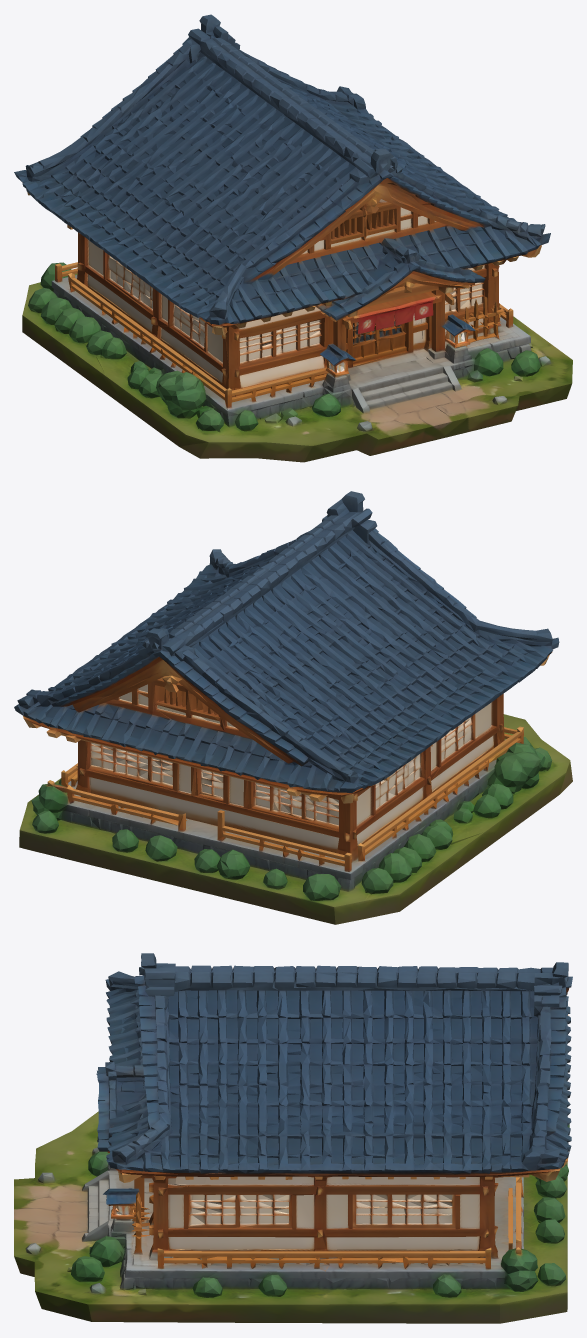
Rendered from source.glb.
3 views of the same model, one above another, from view 1: azimuth 30°, elevation 25°; view 2: azimuth 150°, elevation 25°; view 3: azimuth 270°, elevation 25° (orthographic). The views are drawn at different scales.
Parts seen in each view (by area): view 1: model; view 2: model; view 3: model.
Part boxes in pixels (x1,y1,x2,y2): model: [14, 14, 572, 462]; model: [14, 491, 572, 924]; model: [14, 953, 572, 1323].
Size of the model in its own units: 1.62 by 1.04 by 1.9.
Materials: 1 (1 with a texture image).
